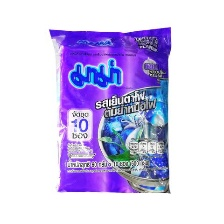snack: (43, 21, 177, 199)
